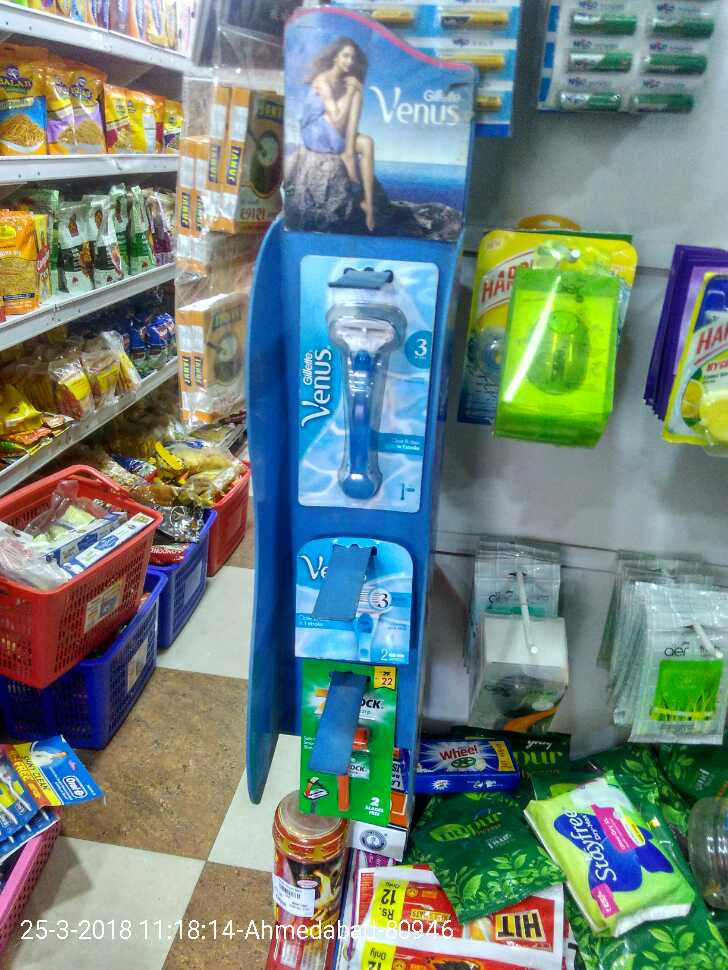venus: (292, 246, 438, 513), (291, 541, 417, 668)
